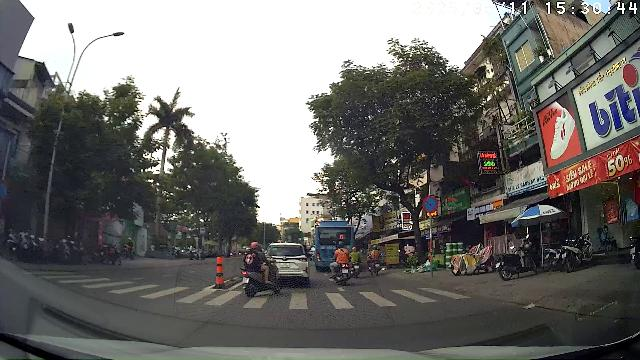131a-cam-do-xe: (422, 195, 438, 212)
